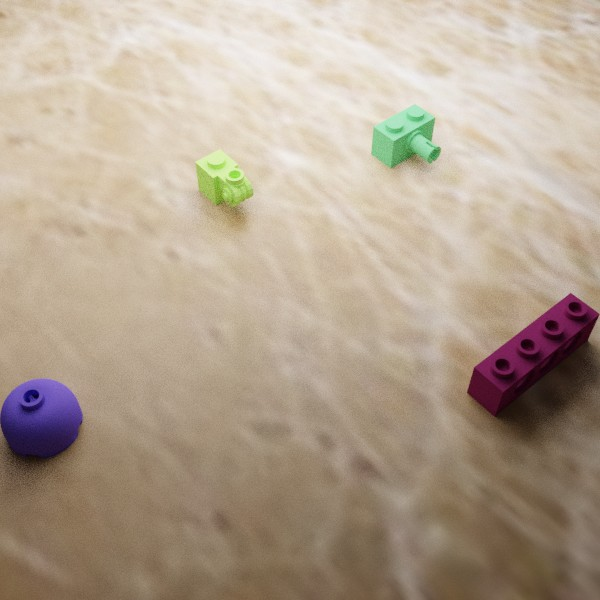lego: (466, 292, 599, 416), (0, 378, 82, 458), (370, 103, 441, 168), (195, 149, 253, 206)
